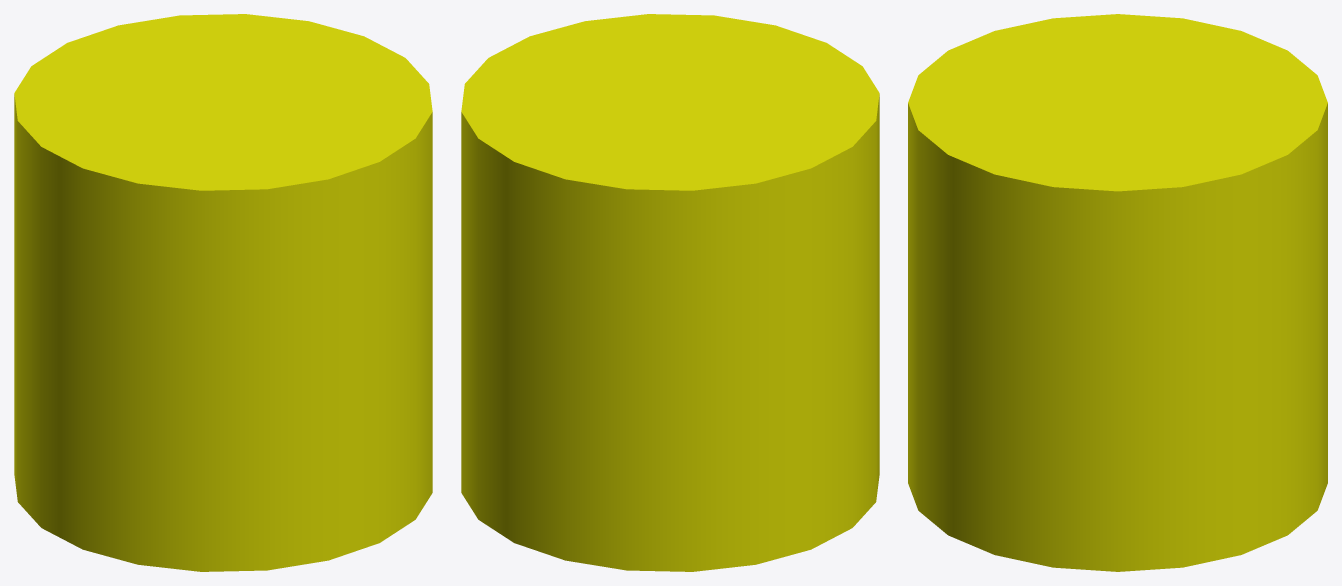
Rendered from TestPlayer.fbx.
3 renders of one model, left to right at view 1: azimuth 30°, elevation 25°; view 2: azimuth 150°, elevation 25°; view 3: azimuth 270°, elevation 25°, orthographic.
Parts seen in each view (by area): view 1: pCylinder1; view 2: pCylinder1; view 3: pCylinder1.
Part boxes in pixels (left/top/right/bottom): pCylinder1: left=14, top=14, right=432, bottom=571; pCylinder1: left=461, top=14, right=879, bottom=571; pCylinder1: left=908, top=14, right=1327, bottom=571.
Bounding box in the file's own units: 1 × 1 × 1.
